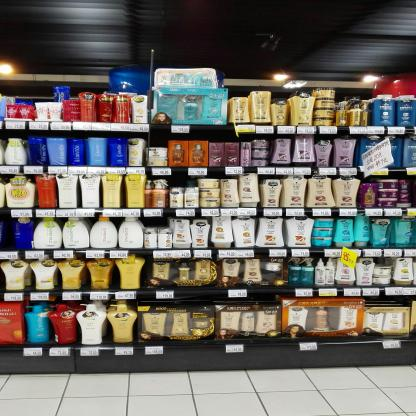Void: (192, 128, 235, 140), (152, 128, 166, 146), (146, 217, 168, 227), (173, 177, 192, 187)
